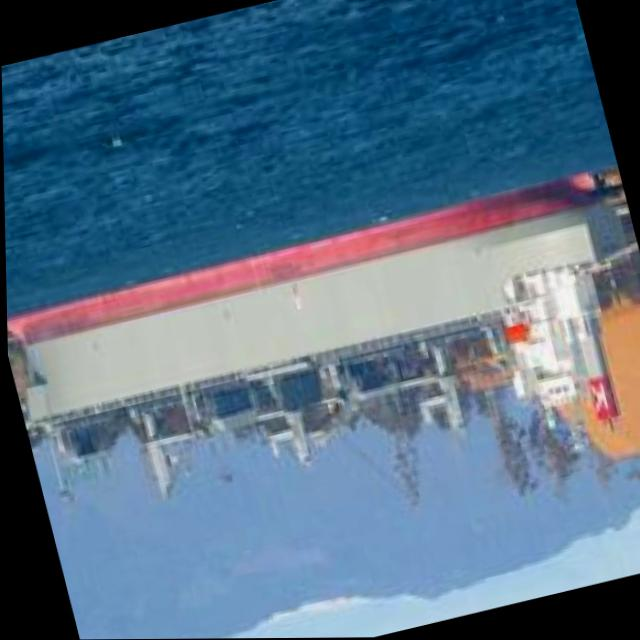ship2: (5, 177, 621, 505)
